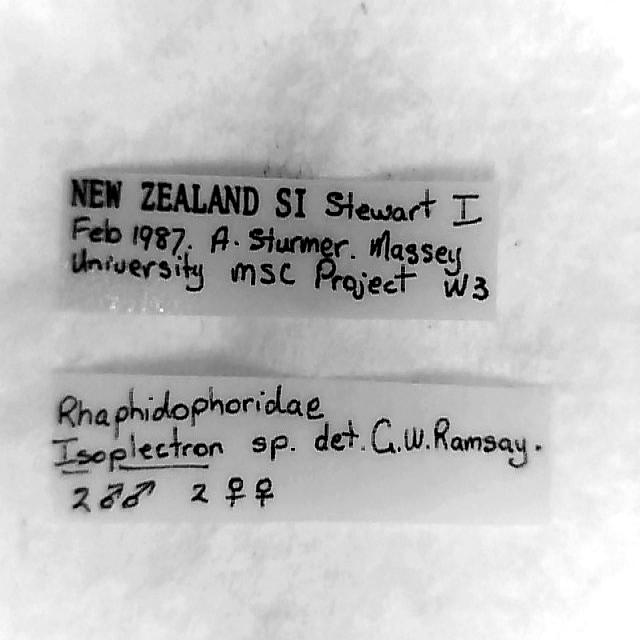hand_label: (51, 372, 551, 522)
mixed_label: (61, 172, 498, 318)
